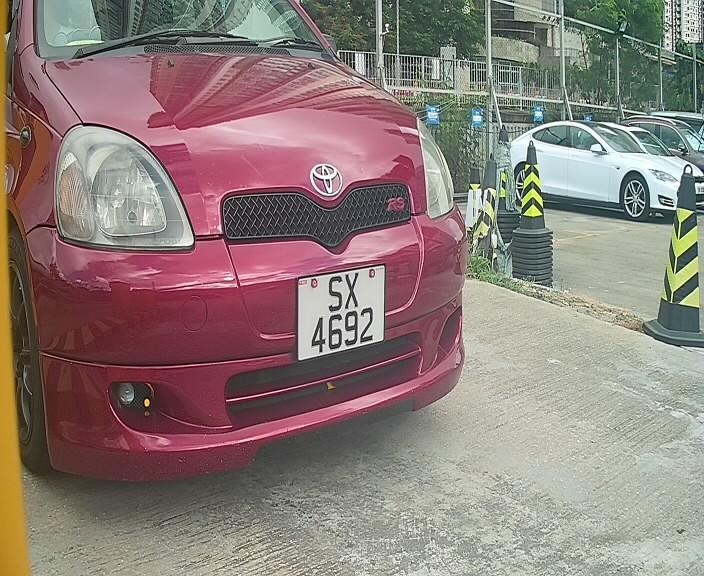License Plate: (290, 258, 390, 366)
